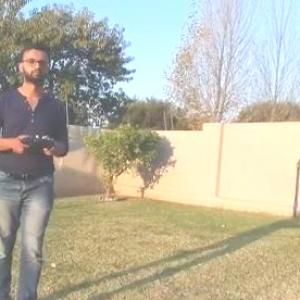follow: (0, 39, 73, 299)
